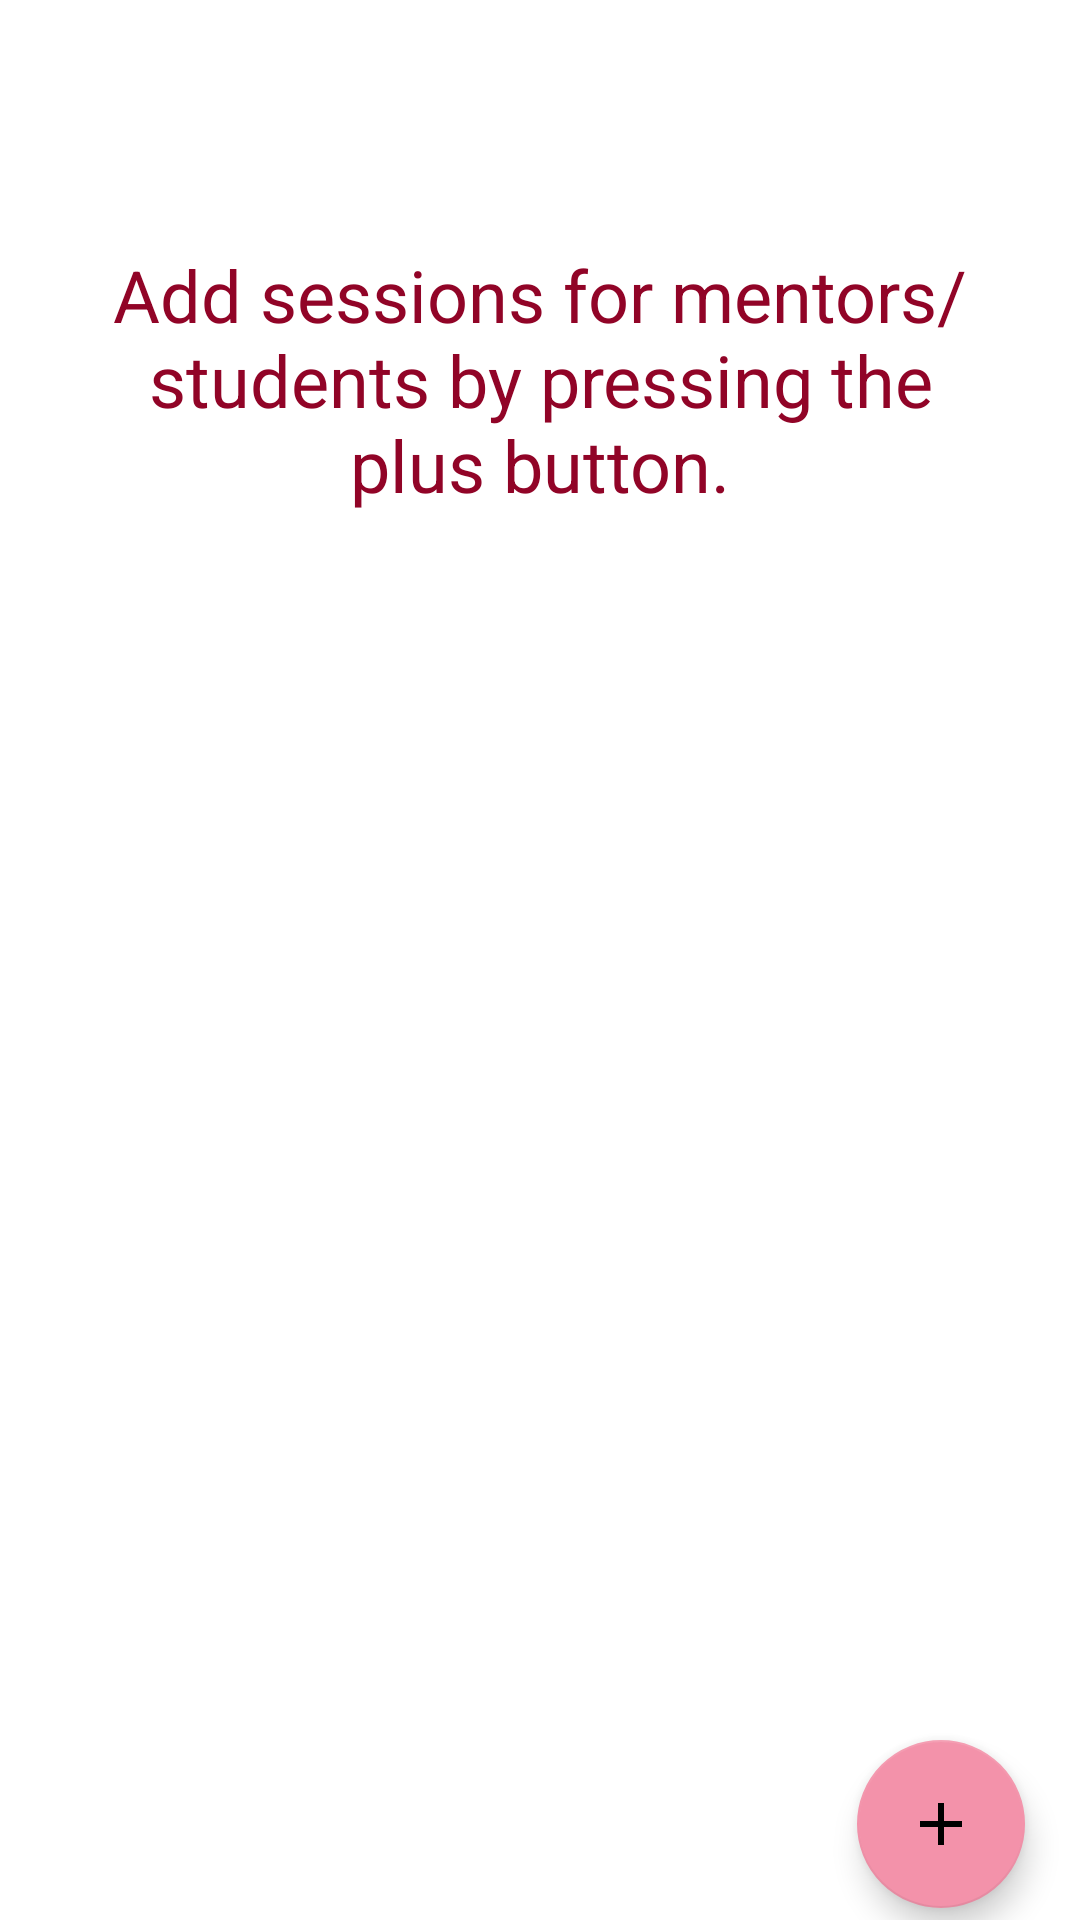

Icons on this 1080*1920 Android screen, each with its box as (x1, y1, x2, y2):
add: (857, 1740, 1025, 1908)
